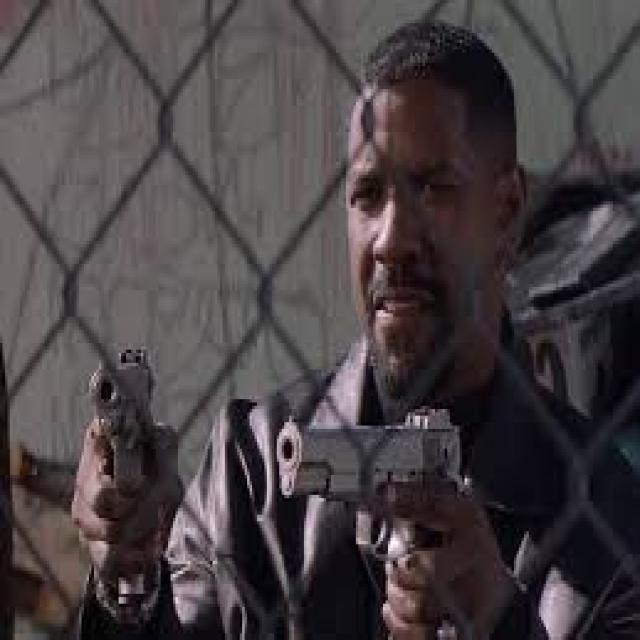weapons: (265, 380, 496, 586), (60, 326, 197, 566)
